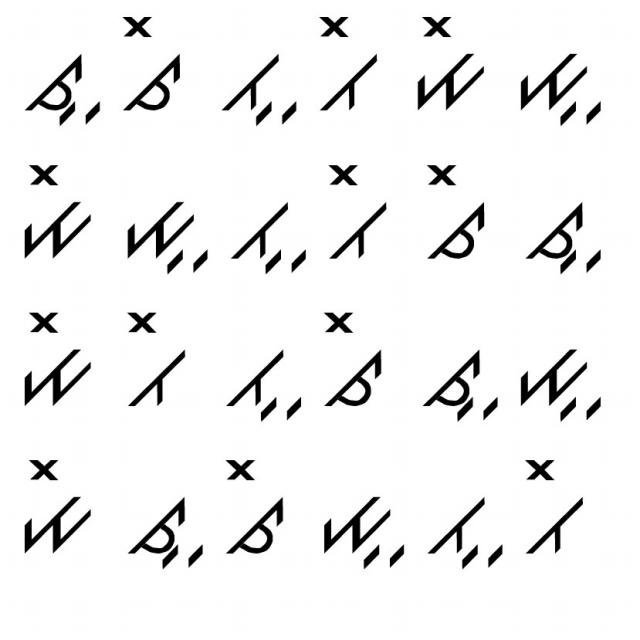bah: (230, 191, 314, 278), (225, 346, 308, 431), (426, 489, 508, 573), (218, 45, 300, 126)
bo: (120, 306, 195, 414), (519, 454, 587, 560), (323, 160, 393, 262), (314, 12, 381, 113)
cah: (20, 50, 107, 132), (524, 196, 612, 277), (413, 342, 502, 421), (119, 496, 209, 571)
co: (421, 156, 488, 272), (318, 308, 390, 412), (223, 457, 292, 564), (118, 13, 185, 117)
mah: (512, 36, 613, 128), (116, 190, 220, 279), (511, 342, 615, 427), (315, 486, 411, 574)
mo: (15, 307, 104, 408), (18, 155, 99, 262), (15, 450, 96, 557), (407, 13, 489, 116)
